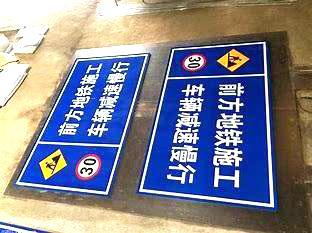sign: (163, 49, 274, 198), (28, 55, 130, 190)
